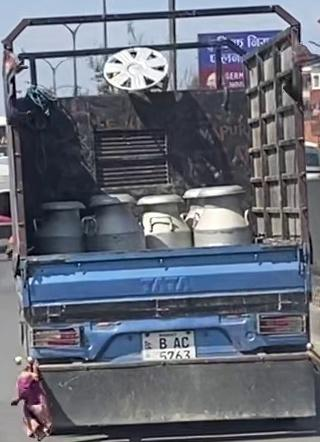license-plate: (141, 329, 200, 366)
